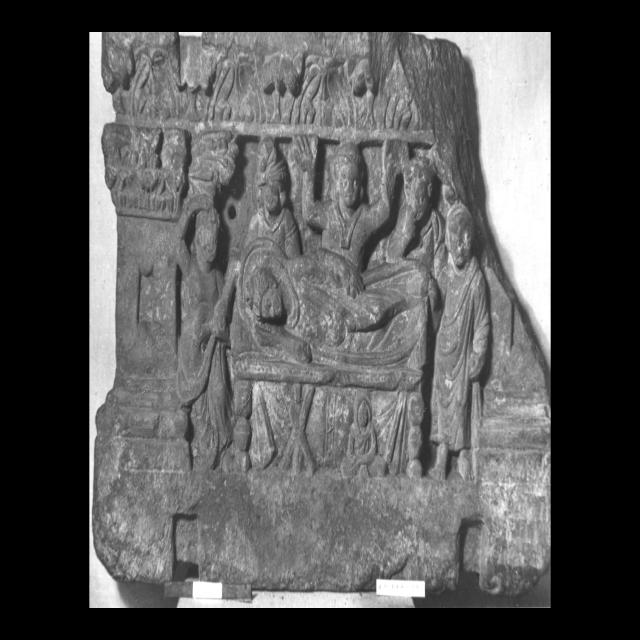buddha-sleeping: (225, 238, 431, 478)
